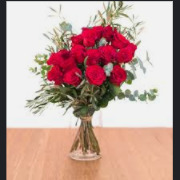RedRose: (42, 67, 66, 87), (67, 66, 84, 86), (87, 64, 104, 84), (111, 64, 127, 85), (70, 43, 86, 63), (43, 50, 59, 66), (102, 42, 115, 61), (115, 35, 133, 48), (115, 48, 134, 60), (87, 46, 102, 61), (102, 21, 113, 40), (88, 25, 102, 39), (61, 46, 69, 65)
